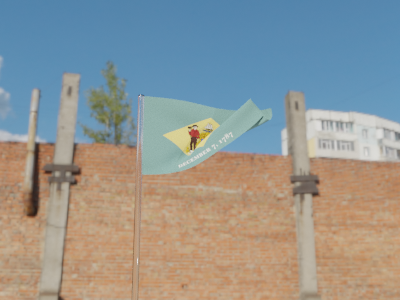Delaware flag: (140, 93, 274, 176)
